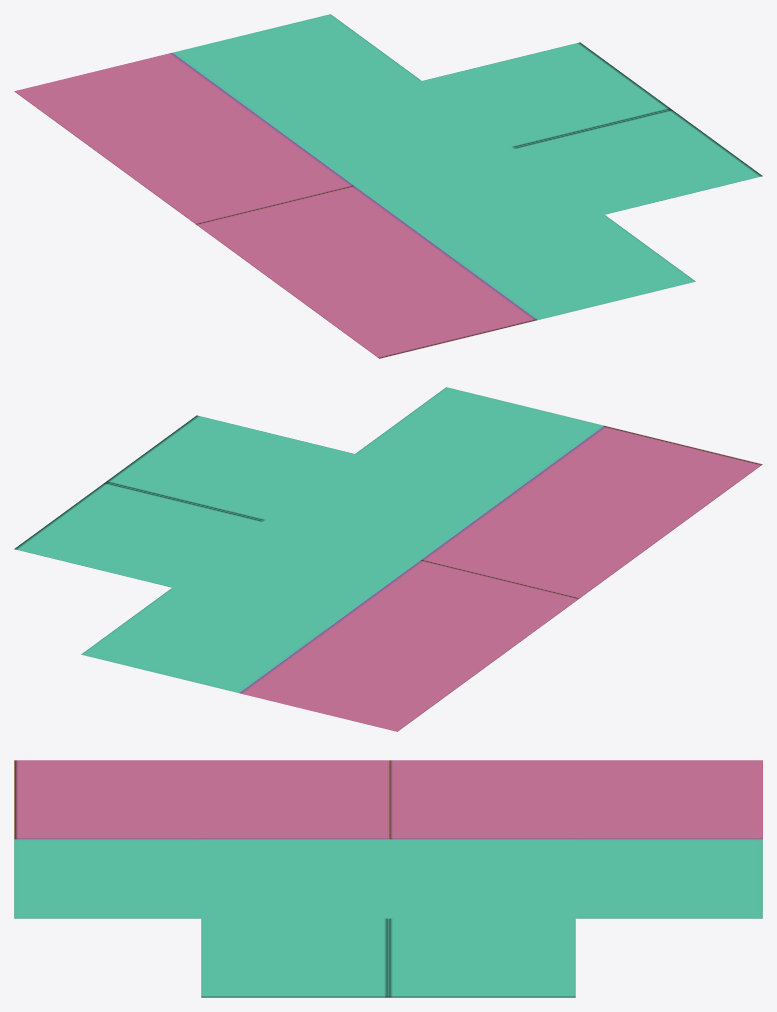
File: MK_Path_T_Trim_Frayed.fbx
3 views of the same model, one above another, from view 1: azimuth 30°, elevation 25°; view 2: azimuth 150°, elevation 25°; view 3: azimuth 270°, elevation 25° (orthographic). The views are drawn at different scales.
Parts seen in each view (by area): view 1: Path_T_Trim_Frayed; view 2: Path_T_Trim_Frayed; view 3: Path_T_Trim_Frayed.
Part boxes in pixels (<box>): Path_T_Trim_Frayed: <box>14,14,762,358</box>; Path_T_Trim_Frayed: <box>14,387,762,731</box>; Path_T_Trim_Frayed: <box>14,760,762,997</box>.
Bounding box in the file's own units: 135 × 0 × 180.
Materials: 1 (1 with a texture image).
